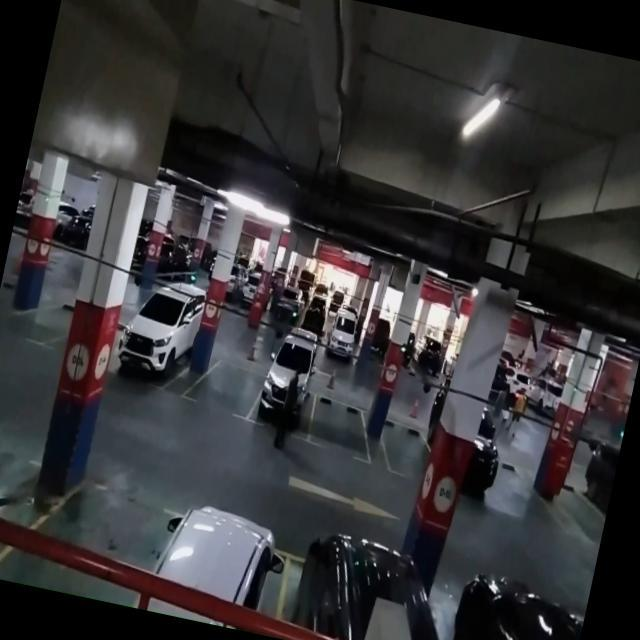empty: (178, 350, 268, 425), (303, 392, 382, 462), (372, 415, 435, 483)
occupied: (110, 283, 202, 395), (245, 331, 328, 442)
